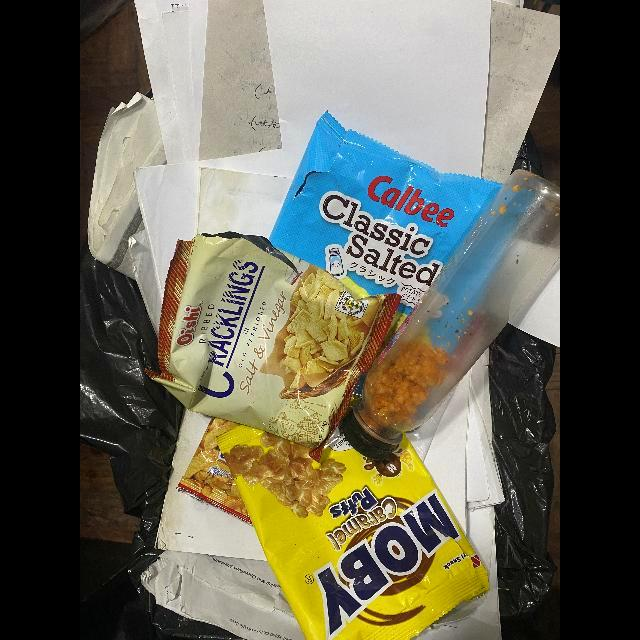food_wrapper: (225, 111, 538, 417), (144, 232, 402, 464), (214, 425, 489, 640), (176, 417, 254, 527)
paper: (139, 506, 503, 639), (264, 0, 492, 194), (135, 148, 283, 304), (156, 408, 269, 561), (197, 166, 294, 239)
plastic_bottle: (340, 178, 560, 460)
